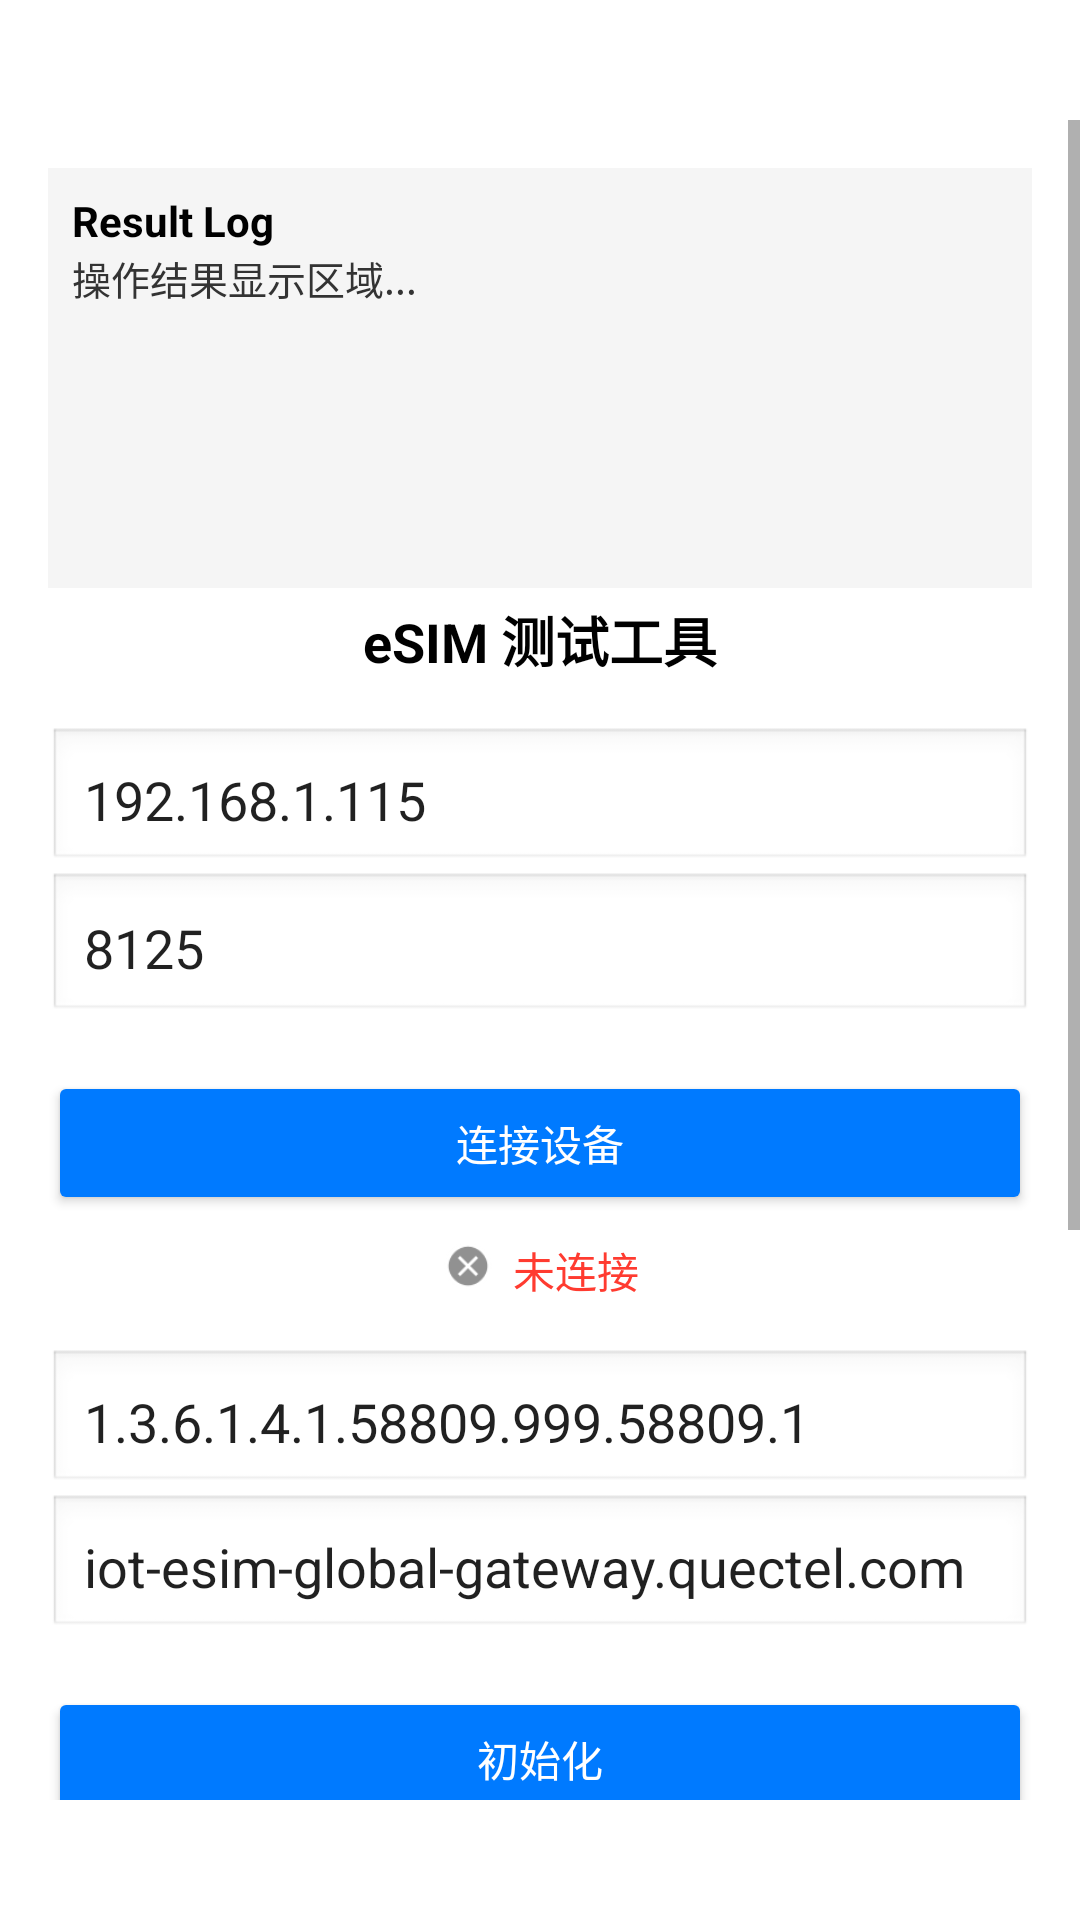

Icons on this 1080*1920 Android screen, each with its box as (x1,y1,x2,y2):
presence offline: (448,1246,488,1286)
